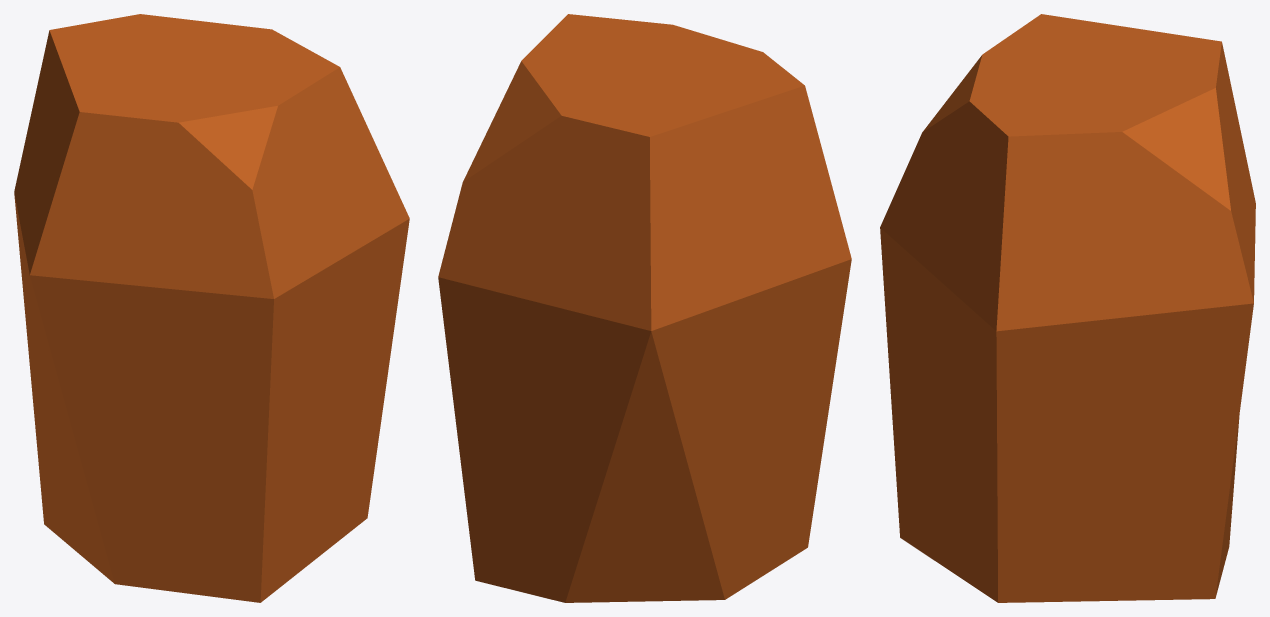
File: RockPart3-col.glb
3 views of the same model, side by side, from view 1: azimuth 30°, elevation 25°; view 2: azimuth 150°, elevation 25°; view 3: azimuth 270°, elevation 25° (orthographic). The views are drawn at different scales.
Visible parts, largest first — view 1: RockPart3-col; view 2: RockPart3-col; view 3: RockPart3-col.
Part boxes in pixels (x1,y1,x2,y2): RockPart3-col: [14, 14, 409, 602]; RockPart3-col: [438, 14, 851, 602]; RockPart3-col: [880, 14, 1255, 602].
Bounding box in the file's own units: 4.08 × 5.16 × 3.71.
